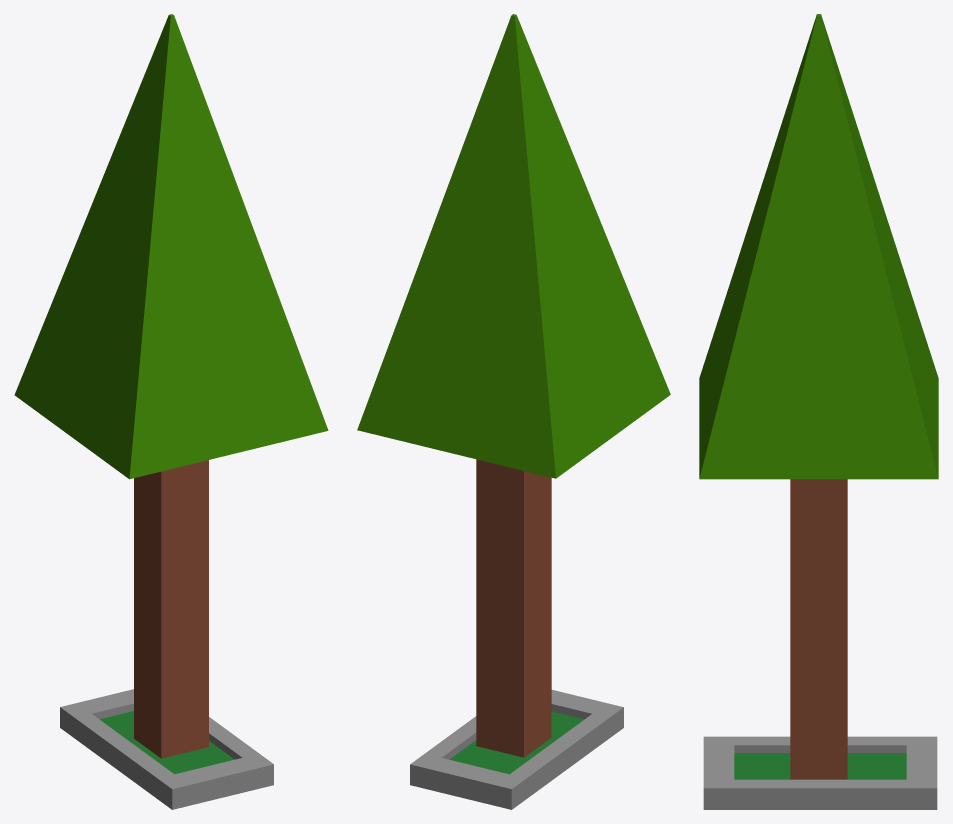
Rendered from Treeone.fbx.
3 renders of one model, left to right at view 1: azimuth 30°, elevation 25°; view 2: azimuth 150°, elevation 25°; view 3: azimuth 270°, elevation 25°, orthographic. The views are drawn at different scales.
Visible parts, largest first — view 1: pCube15; view 2: pCube15; view 3: pCube15.
Part boxes in pixels (x1,y1,x2,y2): pCube15: (14, 14, 328, 809); pCube15: (357, 14, 670, 809); pCube15: (699, 14, 938, 809).
Size of the model in its own units: 1.67 by 5.94 by 1.67.
